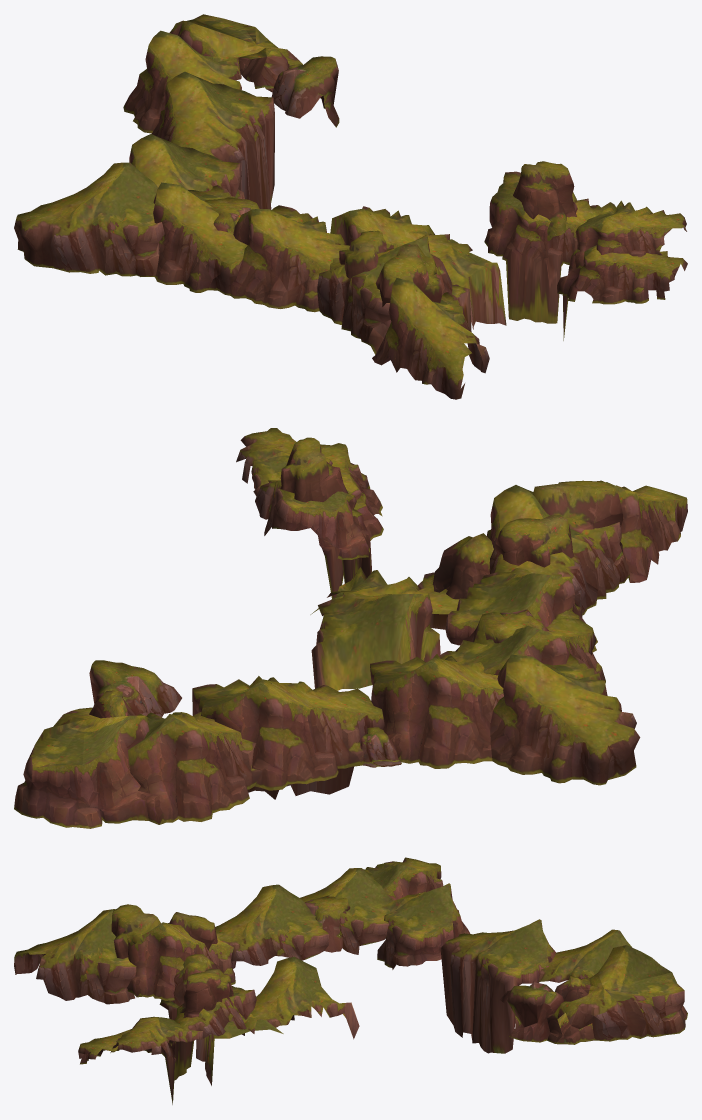
Rendered from yanshi_15_1.FBX.
3 renders of one model, top to bottom at view 1: azimuth 30°, elevation 25°; view 2: azimuth 150°, elevation 25°; view 3: azimuth 270°, elevation 25°, orthographic. The views are drawn at different scales.
Visible parts, largest first — view 1: yanshi_15_1; view 2: yanshi_15_1; view 3: yanshi_15_1.
Boxes of the visible parts, x1,y1,x2,y2 form: yanshi_15_1: [14, 14, 687, 399]; yanshi_15_1: [14, 428, 687, 828]; yanshi_15_1: [14, 857, 687, 1104].
Size of the model in its own units: 7211 by 2212 by 10167.
